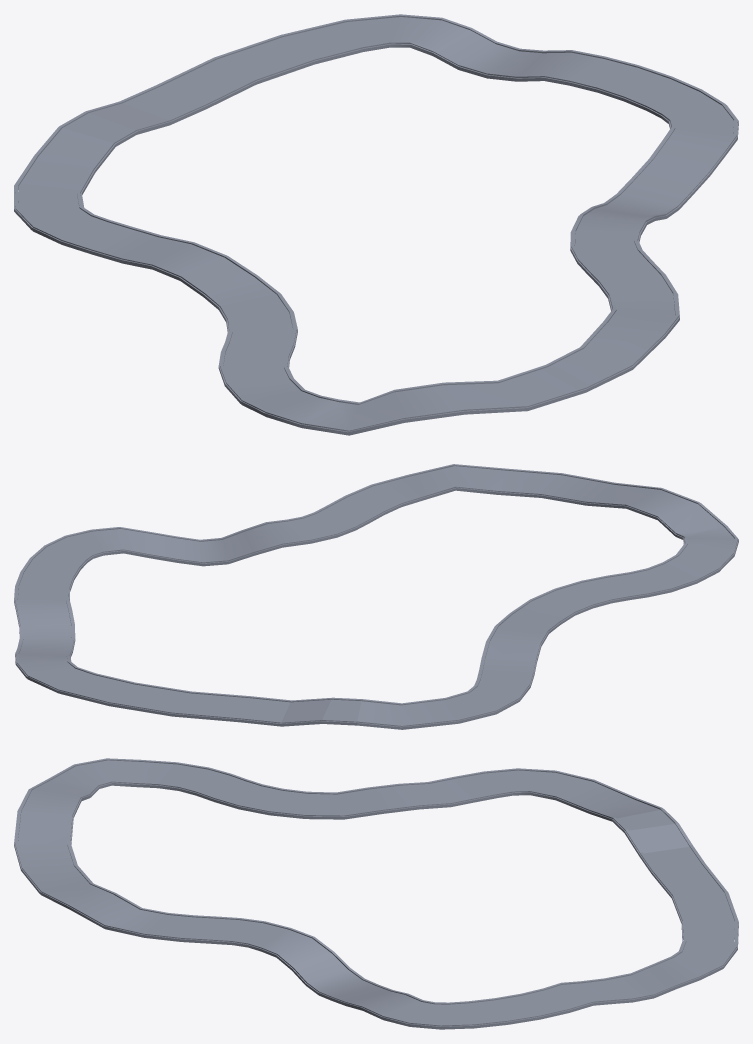
Rendered from pista.fbx.
3 views of the same model, one above another, from view 1: azimuth 30°, elevation 25°; view 2: azimuth 150°, elevation 25°; view 3: azimuth 270°, elevation 25° (orthographic). The views are drawn at different scales.
Parts seen in each view (by area): view 1: Pista:pCube1; view 2: Pista:pCube1; view 3: Pista:pCube1.
Boxes of the visible parts, x1,y1,x2,y2 form: Pista:pCube1: [14, 14, 738, 435]; Pista:pCube1: [14, 464, 738, 729]; Pista:pCube1: [14, 758, 738, 1029].
Bounding box in the file's own units: 1.44 × 0.0672 × 1.66.
